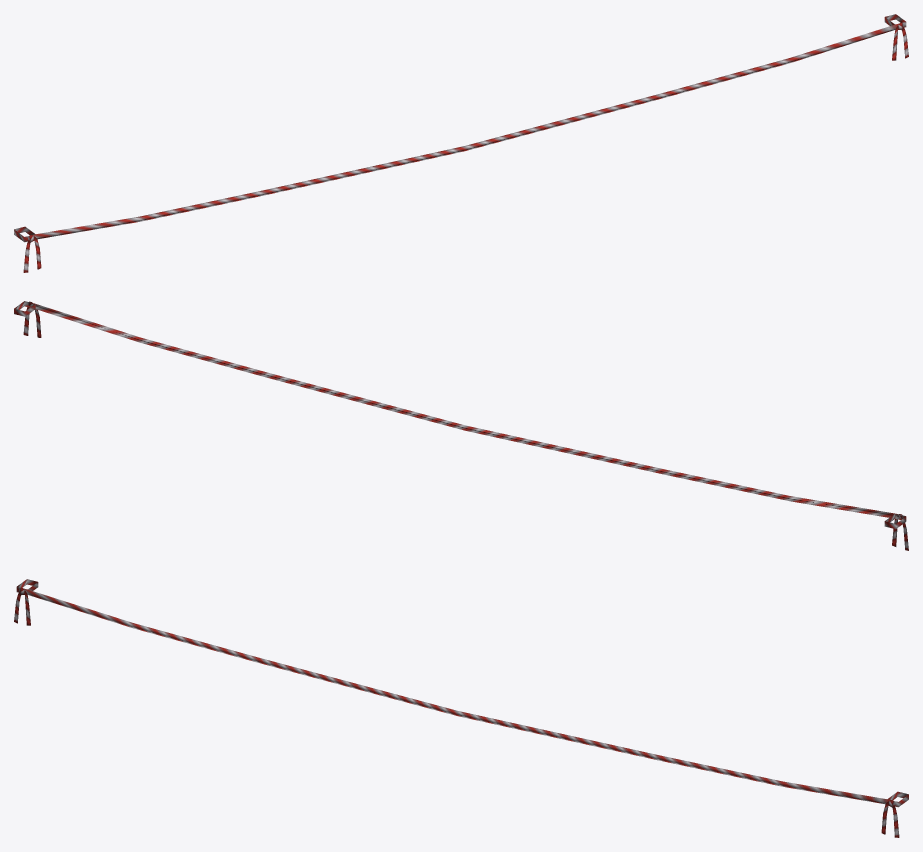
The model's file is jsf_2P_String_s03_01.fbx.
The picture shows the model from 3 angles, top to bottom: view 1: azimuth 30°, elevation 25°; view 2: azimuth 150°, elevation 25°; view 3: azimuth 330°, elevation 25°; orthographic projection.
Parts seen in each view (by area): view 1: jsf_2P_String_s03_01; view 2: jsf_2P_String_s03_01; view 3: jsf_2P_String_s03_01.
Boxes of the visible parts, x1,y1,x2,y2 form: jsf_2P_String_s03_01: [14, 14, 908, 272]; jsf_2P_String_s03_01: [14, 301, 908, 550]; jsf_2P_String_s03_01: [14, 579, 908, 837].
Size of the model in its own units: 254 by 9.85 by 5.92.
